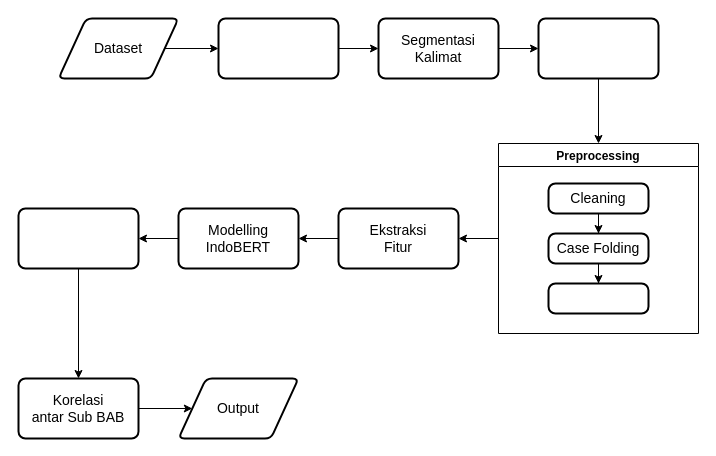
The diagram is 716 pixels wide and 456 high, and some of its shapes have lost their labels. The centre of each missing label's shape, as x and y in pixels:
"Ekstraksi Sub BAB" goes at pixel 278 48.
"Evaluation ROUGE" goes at pixel 78 238.
"Index Kalimat" goes at pixel 598 48.
"Stemming" goes at pixel 598 298.
